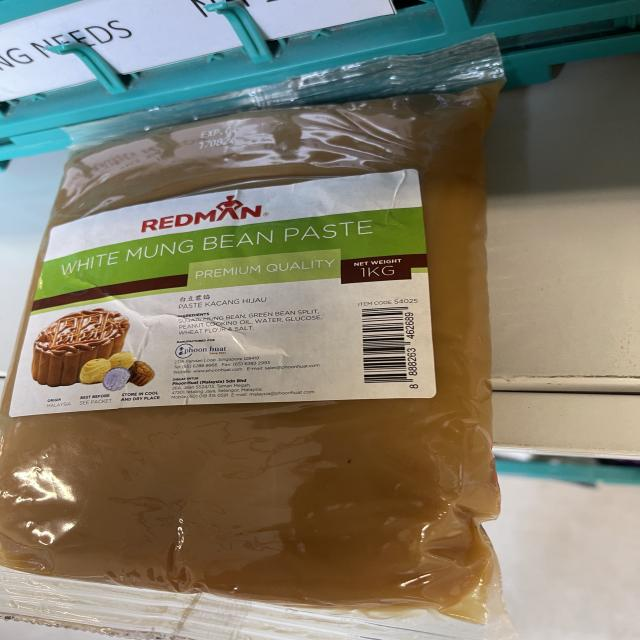object_name: (51, 120, 477, 587)
